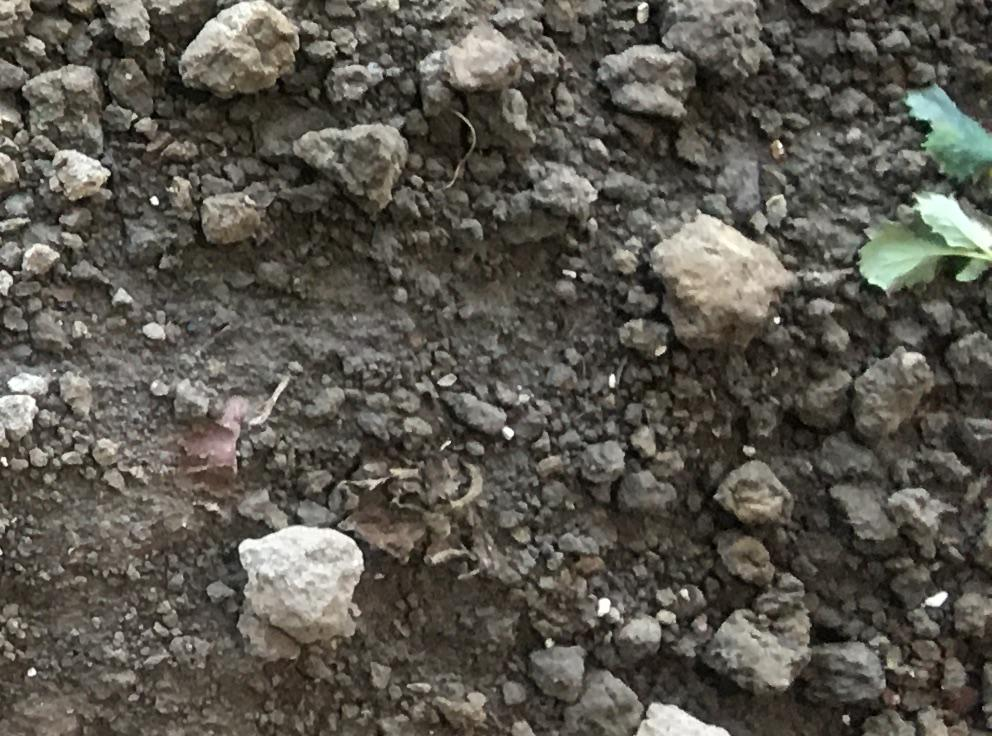block: (649, 207, 781, 357), (222, 524, 362, 654), (175, 3, 301, 99)
